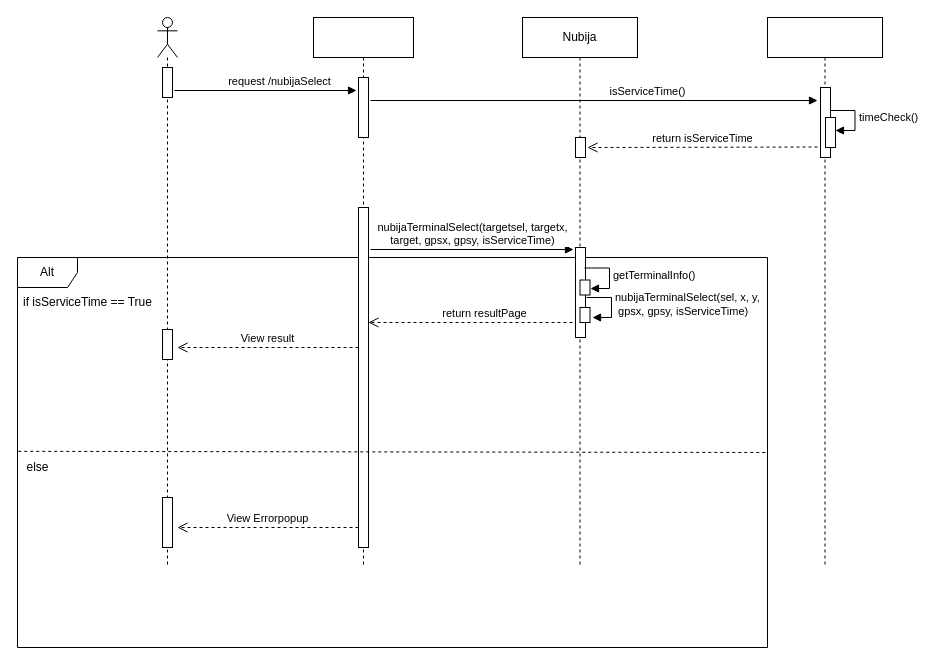
Some shapes in this 935 by 665 pixel diagram are drawn without their labels. Here are the shapes that lost their labels. From the top down, the box of each, then its label:
(312, 16, 414, 568): Browser
(766, 16, 882, 568): Main
